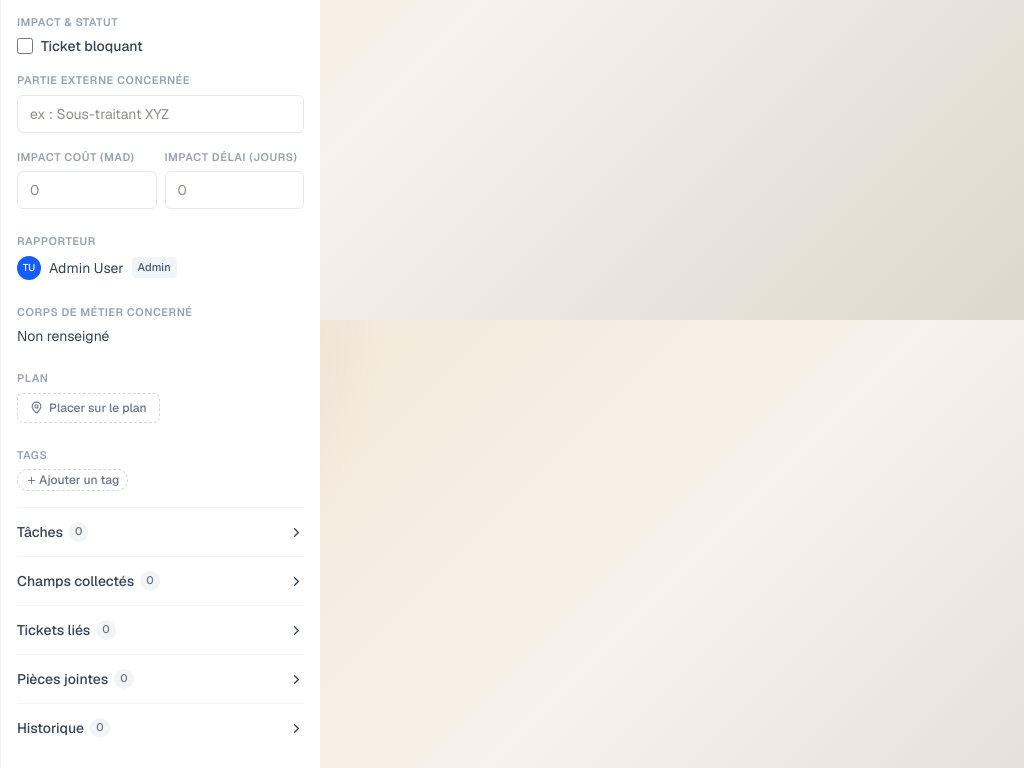
Test: TicketDetailsPanel — history › shows the detail error message when loading failed
The width and height of the screenshot is (1024, 768).
(page scrolled)
What coordinates should you click on to do the following:
click the button "Historique 0"
I would click on:
 (51, 728)
Its box is top-left (17, 718), bottom-right (304, 738).
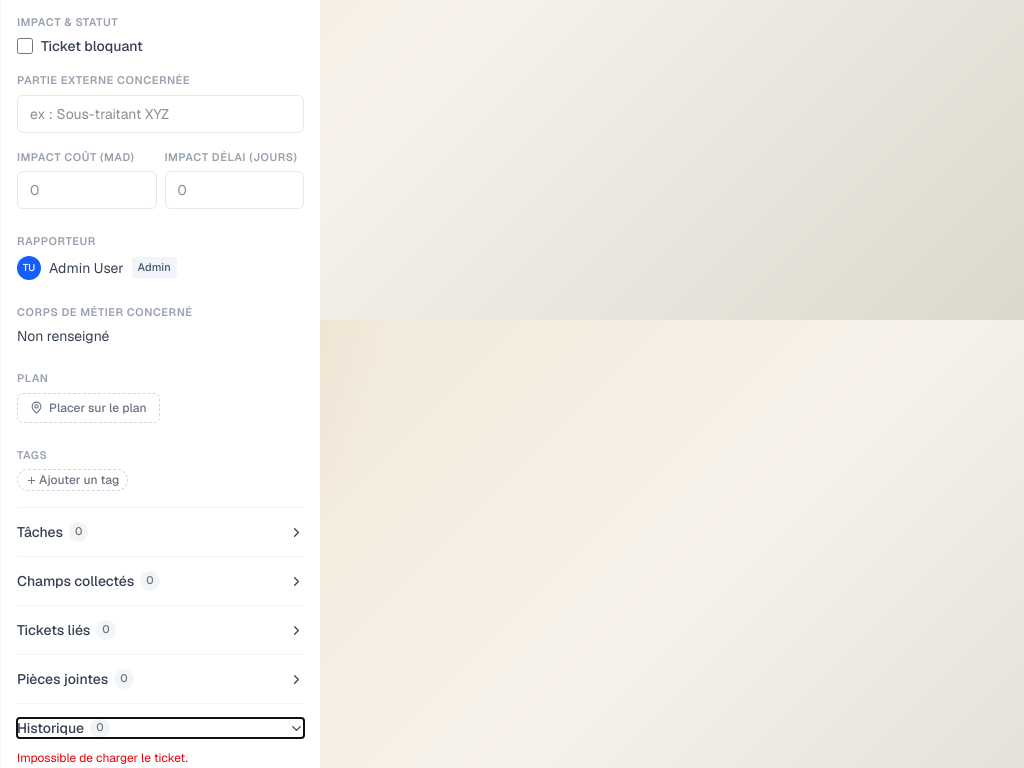
Expected: the text "Impossible de charger le ticket." is shown, top-left (17, 750), bottom-right (188, 766)
